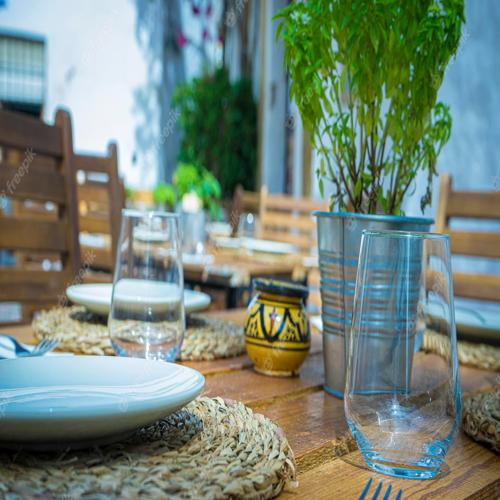vaso: (342, 226, 463, 474), (114, 210, 186, 363)
